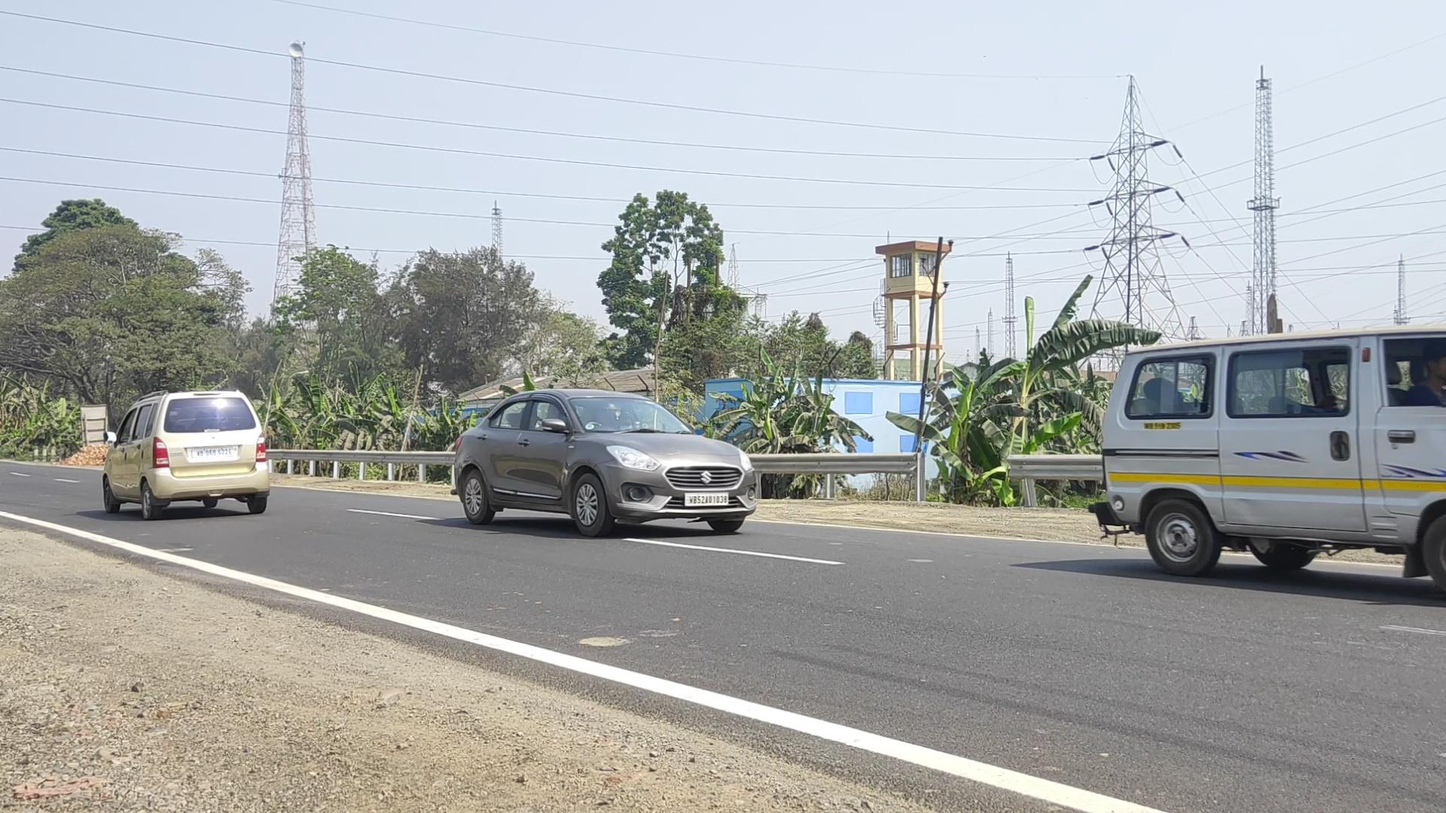car: (449, 388, 756, 537), (102, 388, 270, 520)
van: (1088, 328, 1446, 595)
